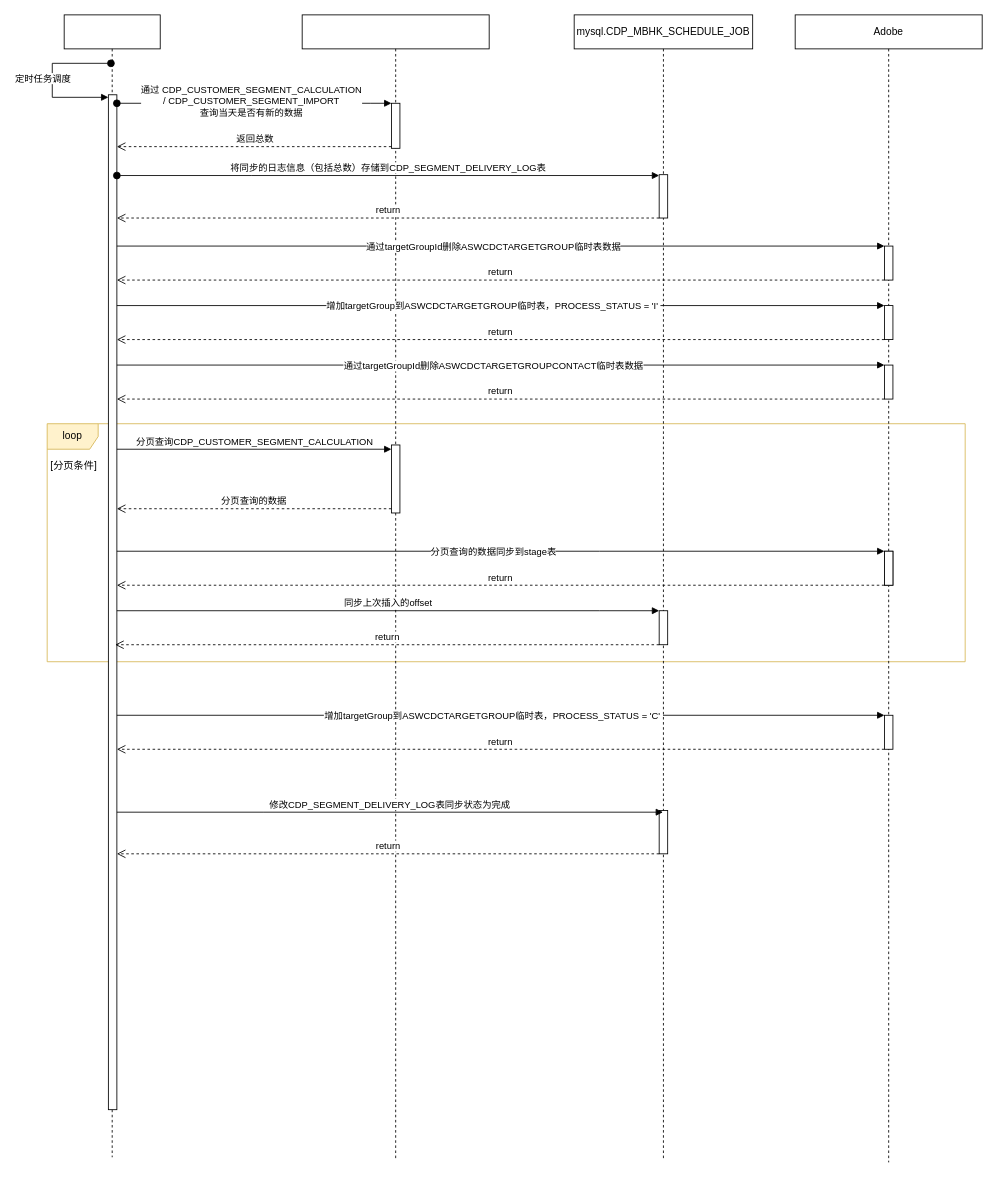
This 997x1177 diagram has some shape labels left out. Here are the shapes that lost their labels. From the top down, the box of each, then its label:
(63, 14, 160, 1157): cdp-tag-job
(301, 14, 489, 1160): starrocks.CDP_MBHK_CALCULATION
